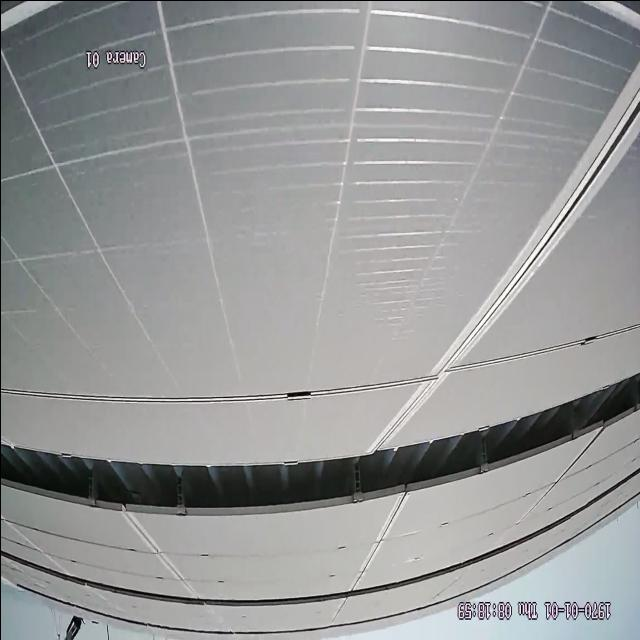interior panel: (7, 58, 640, 441), (124, 521, 197, 588), (352, 501, 402, 582)
outher panel: (3, 370, 640, 518)
